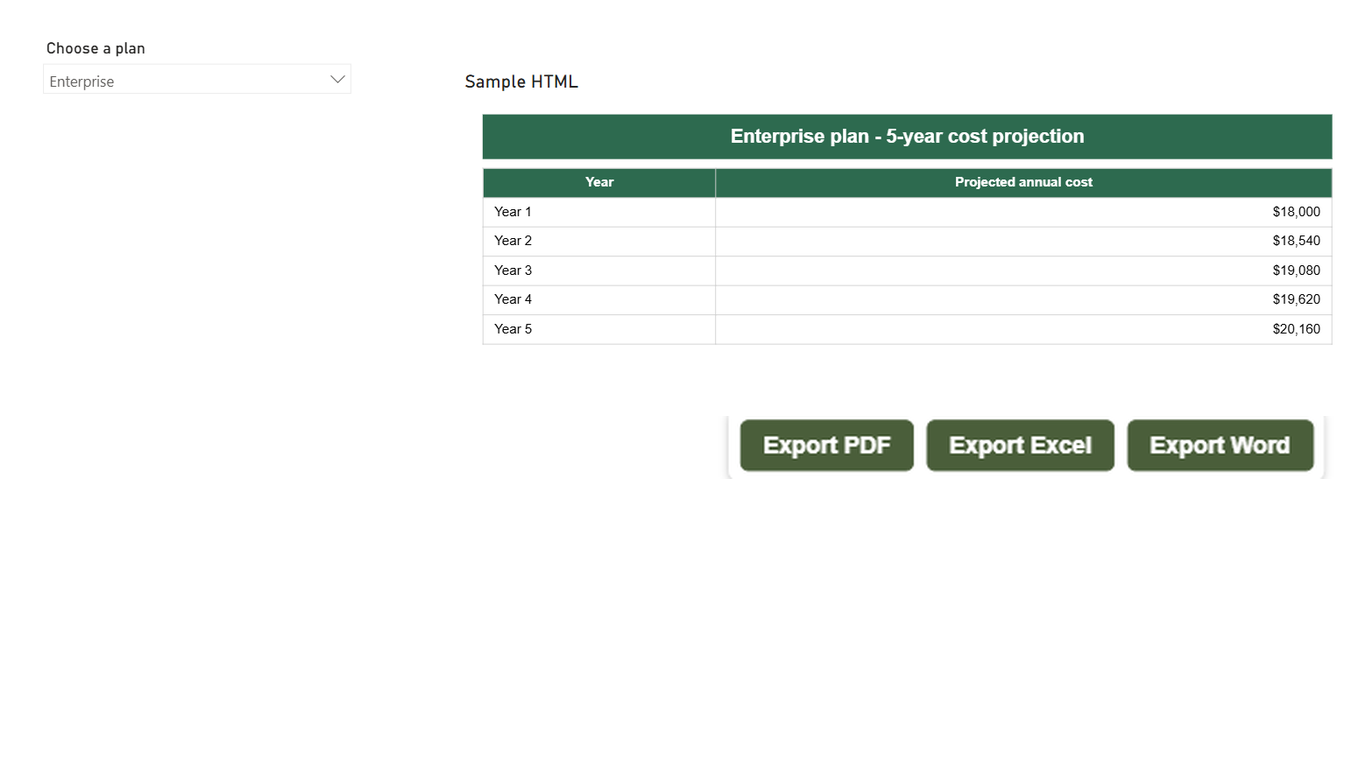

Layout of this report page (visuals, bound fields, positions):
{"tool":"powerbi","page":{"name":"Subscription Cost Projection Demo","canvas":[1280,720],"ordinal":0},"visuals":[{"type":"slicer","fields":{"Values":["Plan.PlanName"]},"box":[20,20,300,140],"z":0},{"type":"htmlExportViewerEC647216FCDEE1F987A31BE6ADDB5510","fields":{"content":["Plan.Sample HTML"]},"box":[408.4,53.7,814.3,614.9],"z":1}]}

Visuals, with their boxes in screenshot pixels (x1, y1, x2, y2), scaled from the page's 1280x720 canvas onto the 1366x768 screenshot:
slicer - Plan.PlanName: 21:21:342:171
htmlExportViewerEC647216FCDEE1F987A31BE6ADDB5510 - Plan.Sample HTML: 436:57:1305:713
